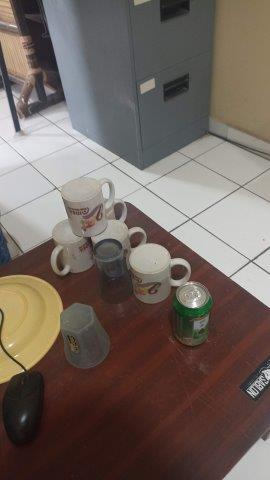kaleng: (171, 281, 213, 346)
